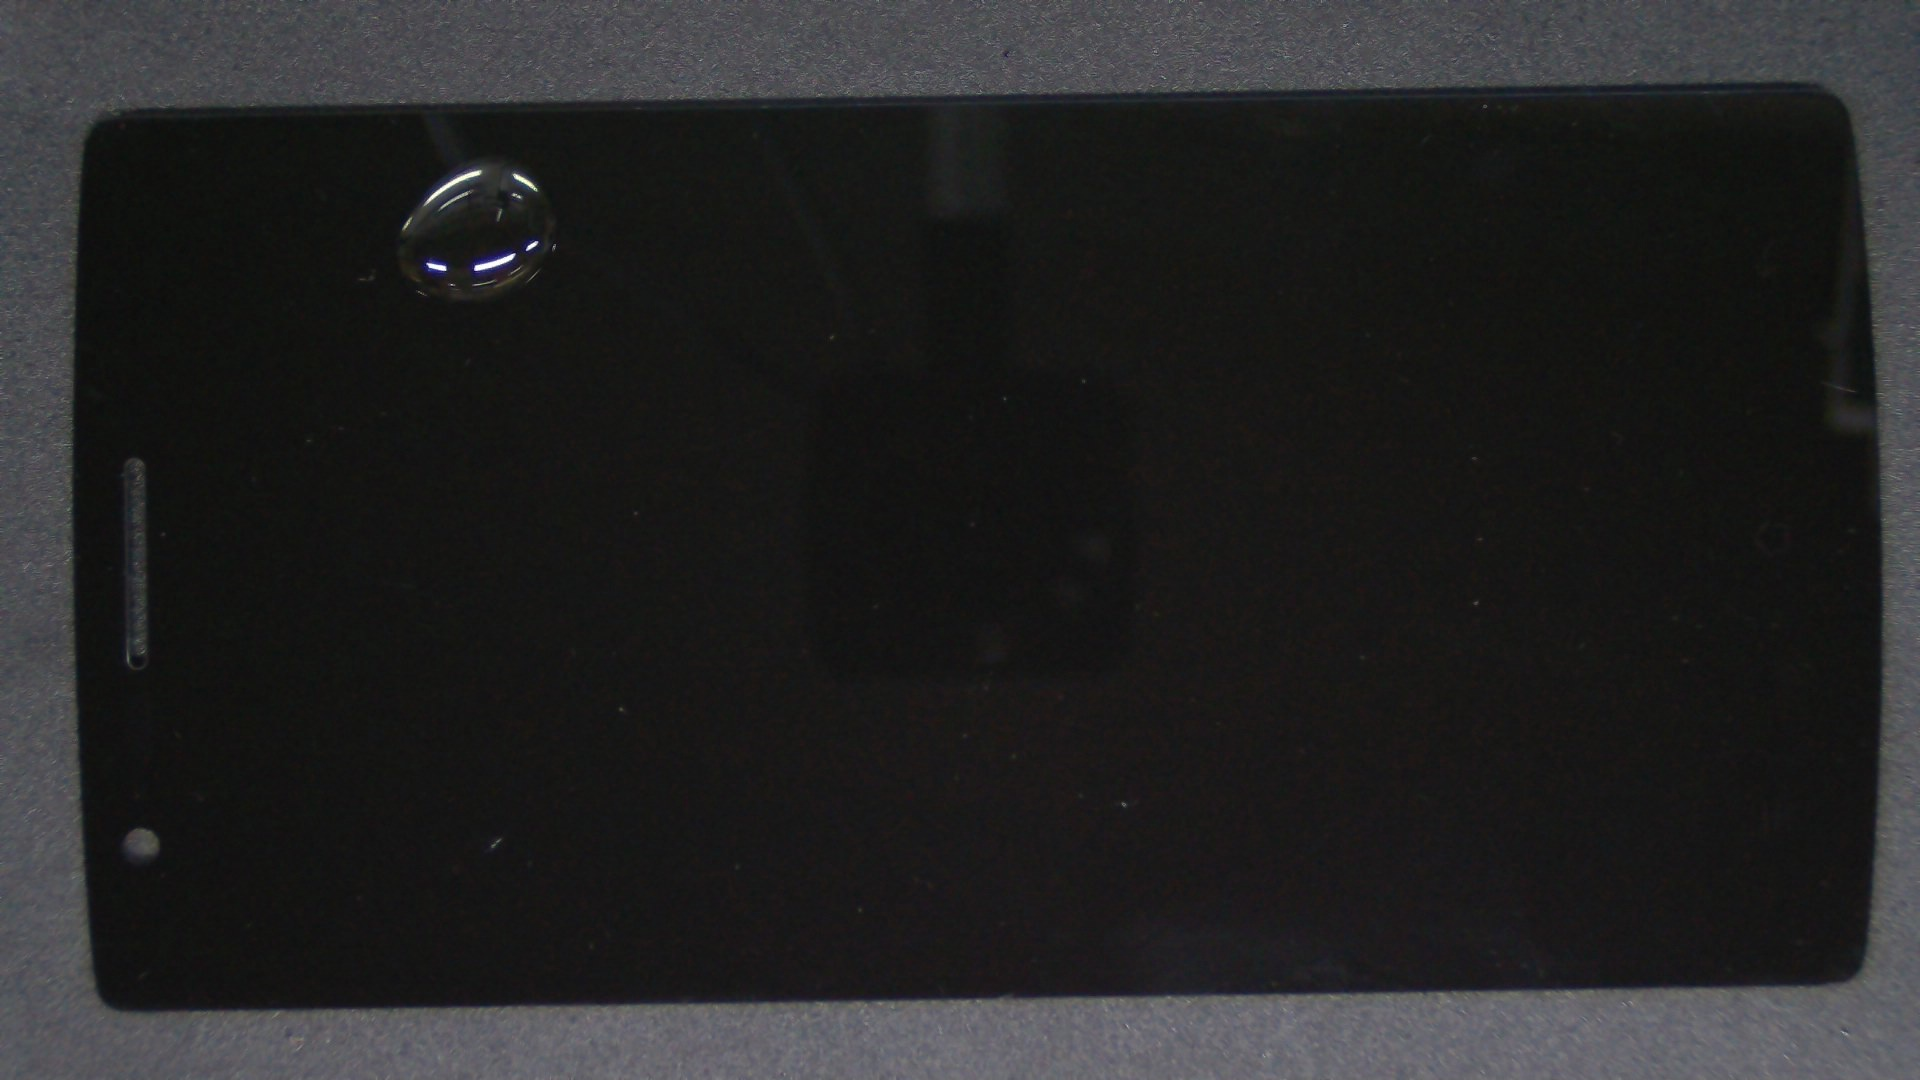oil: (244, 78, 728, 236)
